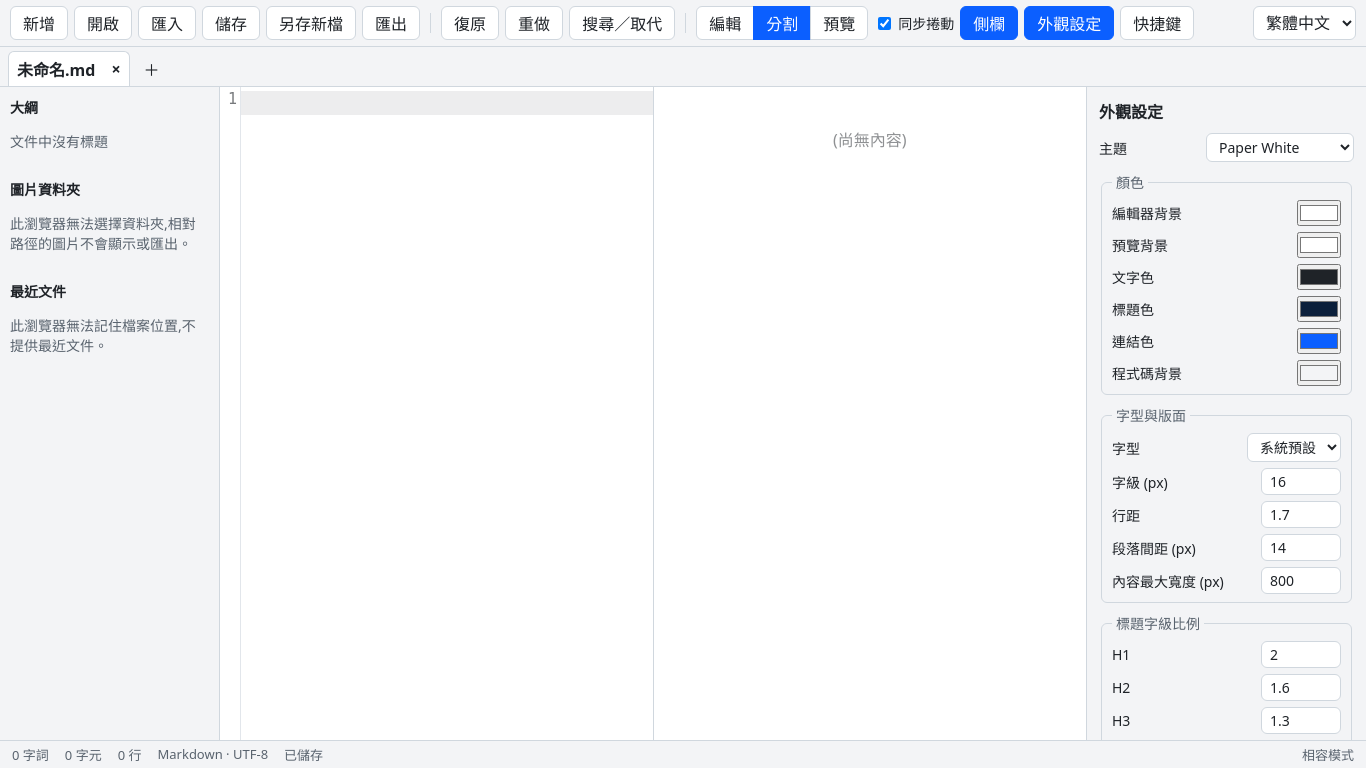
Scenario: switching the language in the app › re-labels the toolbar, tab bar, status bar and sidebar at once, and back again
This screenshot has width=1366, height=768.
Check: the button "儲存" is shown, box [202, 6, 260, 40]
Check: the element named "主要工具列" is shown, box [0, 0, 1365, 47]
Select "English" in the dropdown named "語言" at (1304,23), box [1253, 6, 1356, 40]
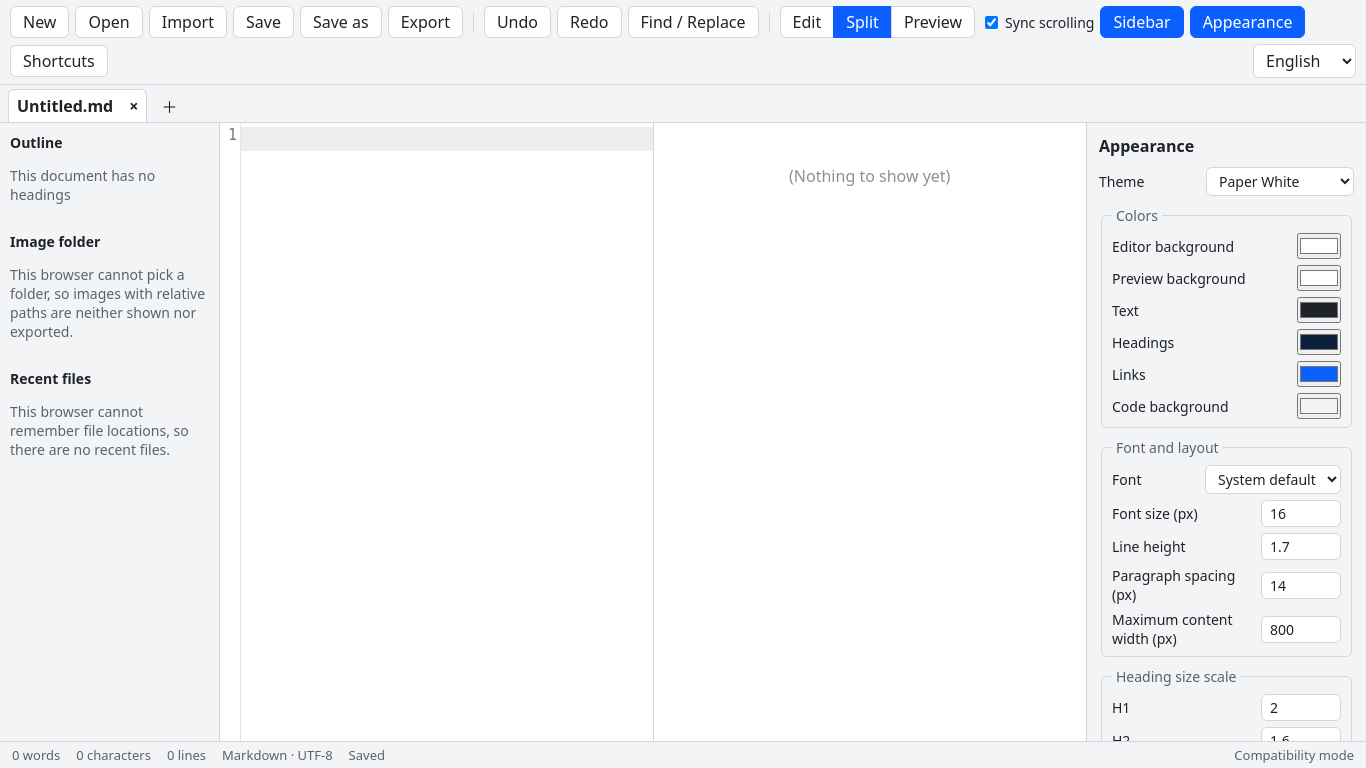
Check: the button "儲存" is gone
Check: the button "New" is shown, box [10, 6, 70, 38]
Check: the button "Open" is shown, box [76, 6, 143, 38]
Select "繁體中文" in the dropdown named "Language" at (1304,61), box [1253, 44, 1356, 78]
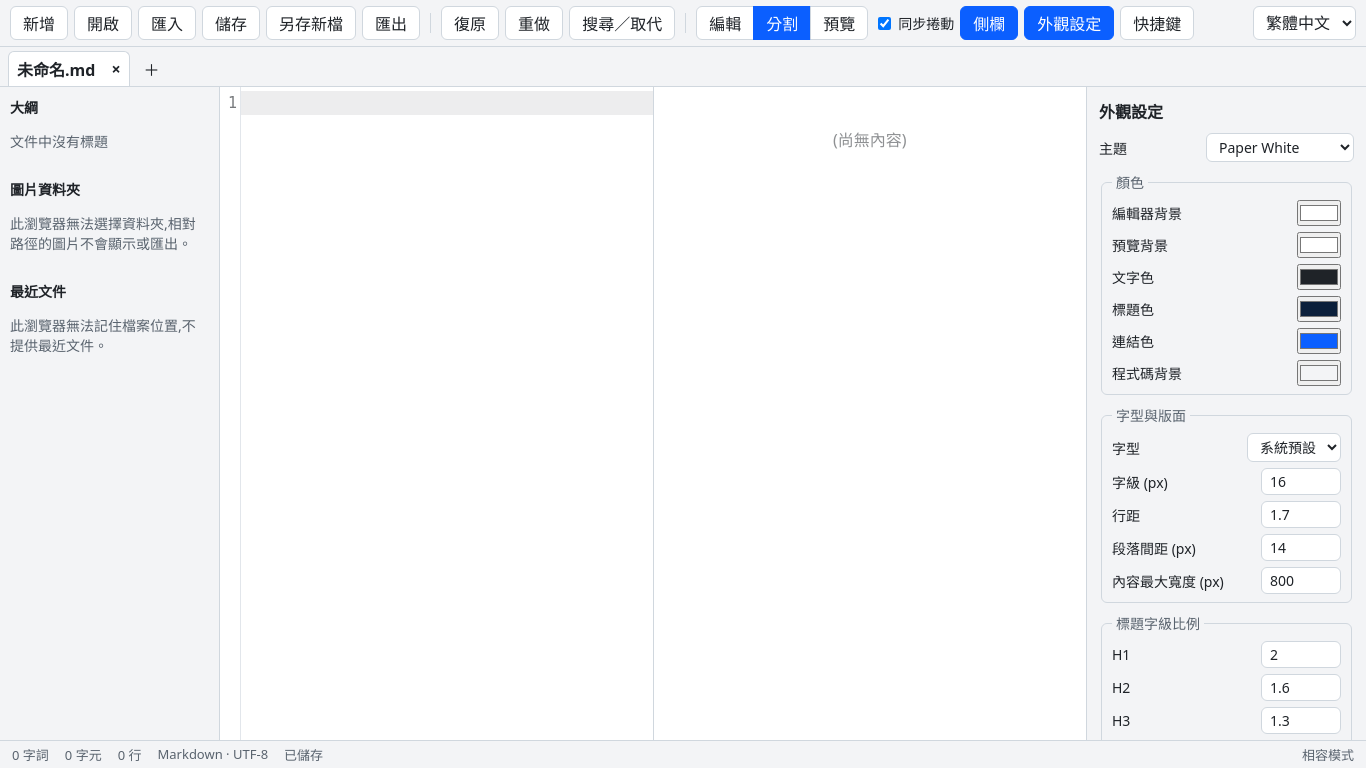
Check: the button "儲存" is shown, box [202, 6, 260, 40]
